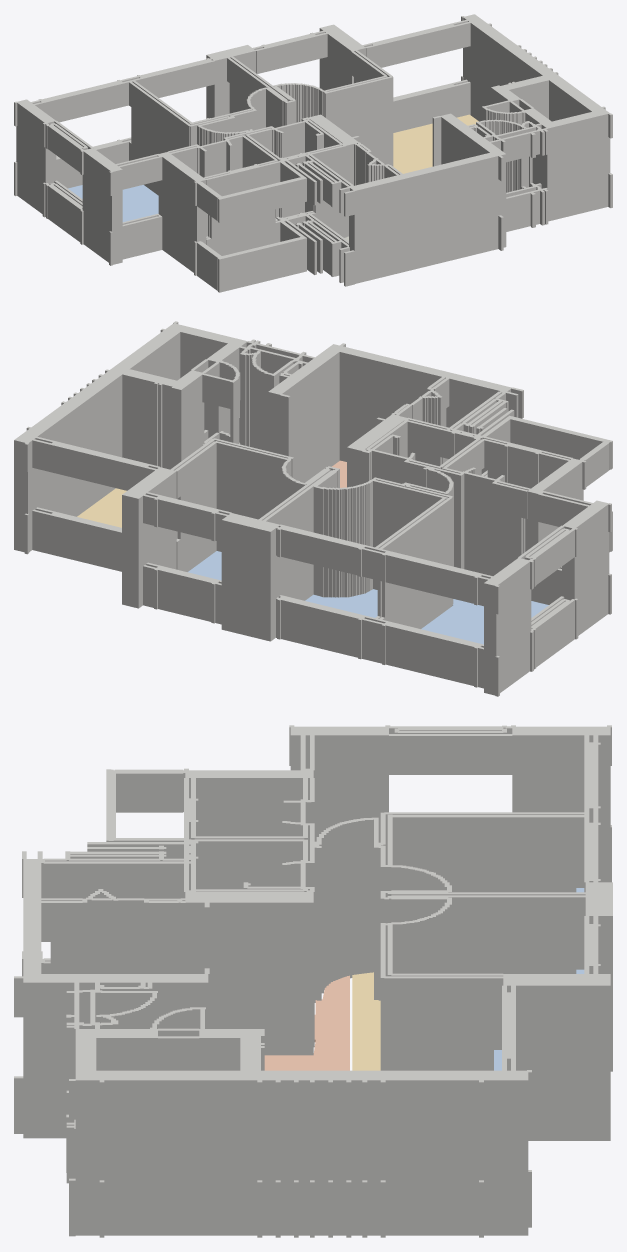
3 views of the same model, one above another, from view 1: azimuth 30°, elevation 25°; view 2: azimuth 150°, elevation 25°; view 3: azimuth 270°, elevation 25° (orthographic). The views are drawn at different scales.
Parts seen in each view (by area): view 1: walls, room:living:5, room:bedroom:4; view 2: walls, room:bedroom:4, room:bedroom:0, room:living:5, room:bedroom:1; view 3: walls, room:kitchen:7, room:living:5.
Boxes of the visible parts, box(x1,y1,x2,y2) form: walls: box(14, 14, 612, 292); room:living:5: box(393, 114, 478, 173); room:bedroom:4: box(68, 185, 158, 221); walls: box(14, 321, 612, 696); room:bedroom:4: box(421, 599, 548, 644); room:bedroom:0: box(305, 589, 377, 617); room:living:5: box(77, 488, 126, 527); room:bedroom:1: box(188, 551, 221, 580); walls: box(14, 725, 612, 1237); room:kitchen:7: box(264, 975, 349, 1070); room:living:5: box(352, 972, 380, 1070).
Size of the model in its own units: 13.8 by 2.8 by 9.78.
